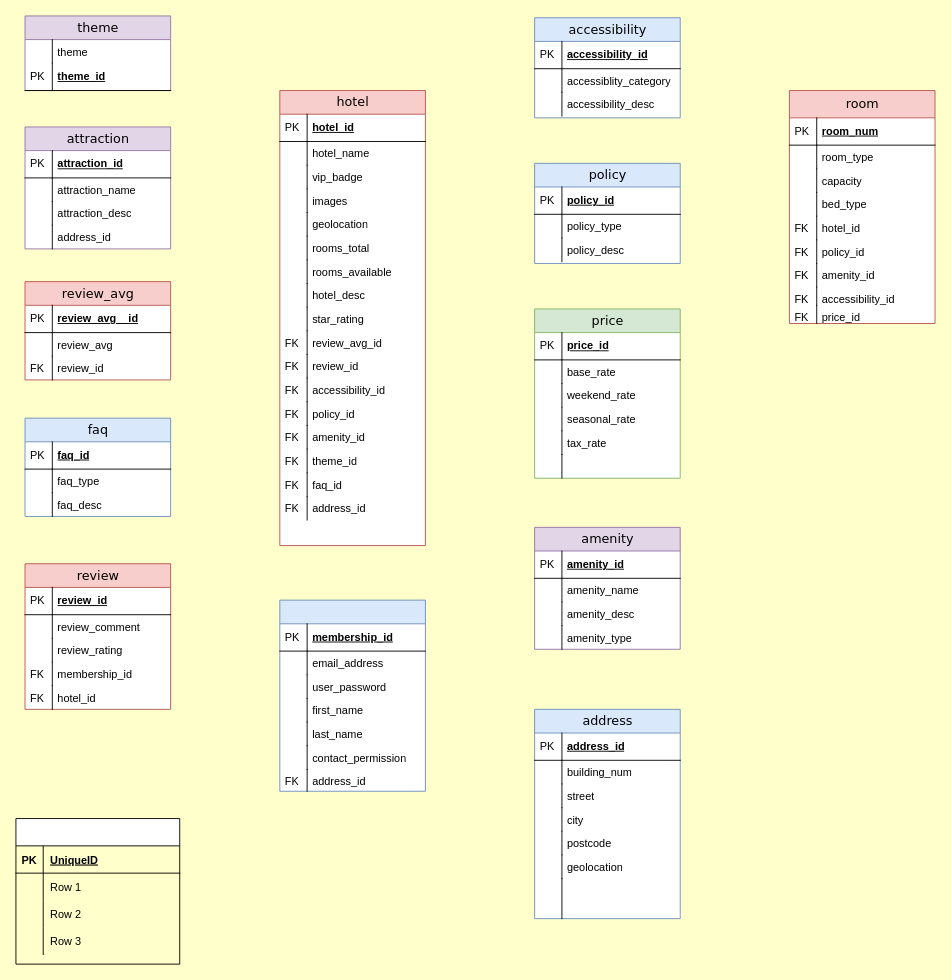
Some shapes in this 951 by 980 pixel diagram are drawn without their labels. Each missing label, with the box of its shape:
customer: (279, 599, 425, 791)
reward: (15, 818, 180, 964)
